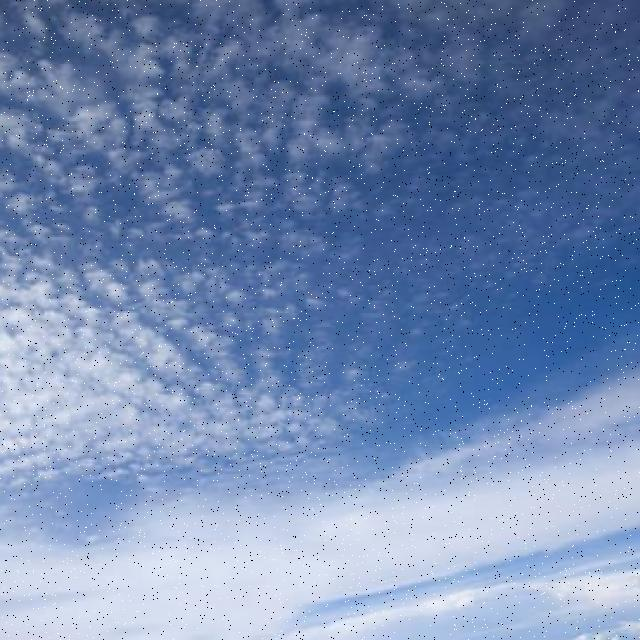Ac: (1, 1, 640, 556)
